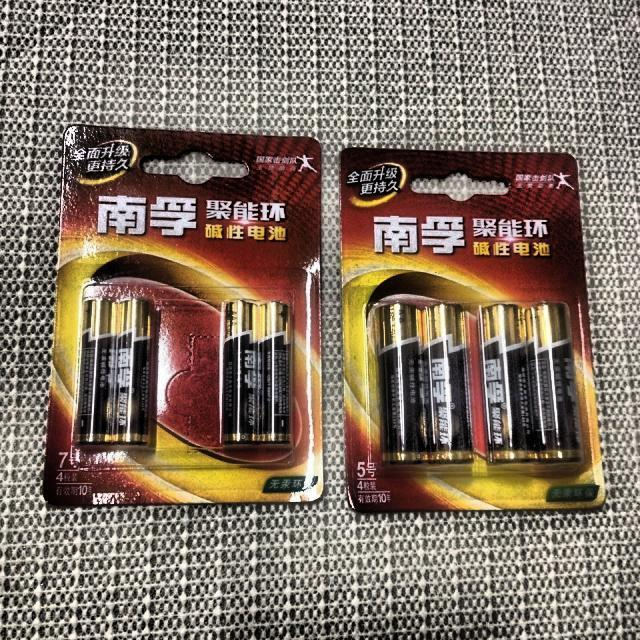battery: (480, 302, 581, 464), (375, 302, 472, 465), (78, 299, 152, 444), (222, 300, 291, 445)
